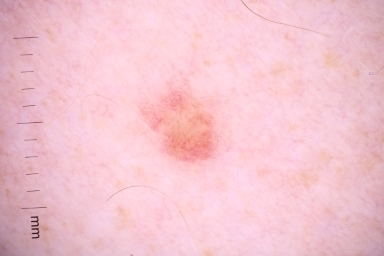nevus: (139, 93, 219, 162)
